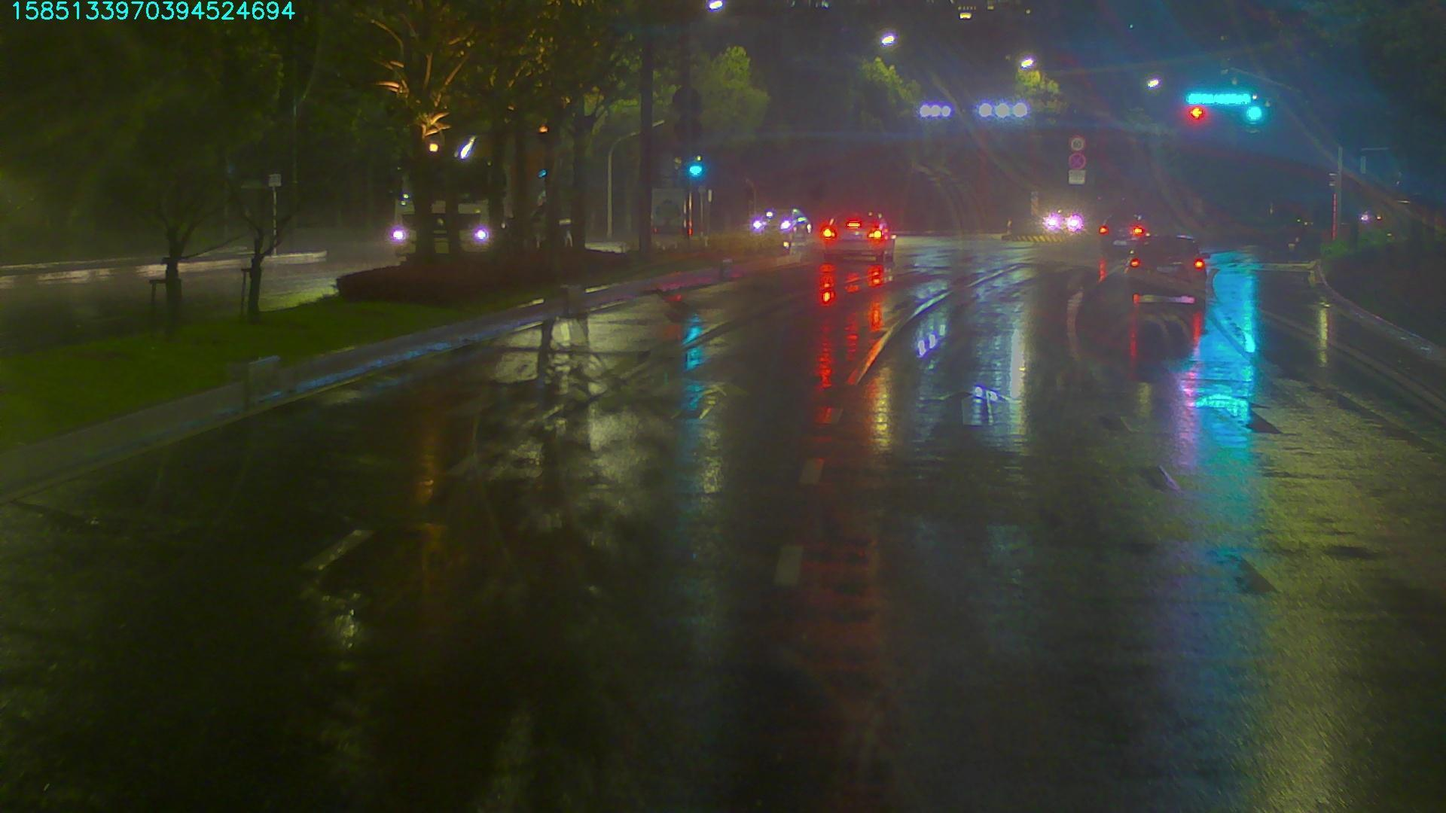green: (1245, 105, 1271, 122)
red: (1187, 104, 1205, 123)
wait_on: (1182, 87, 1254, 106)
